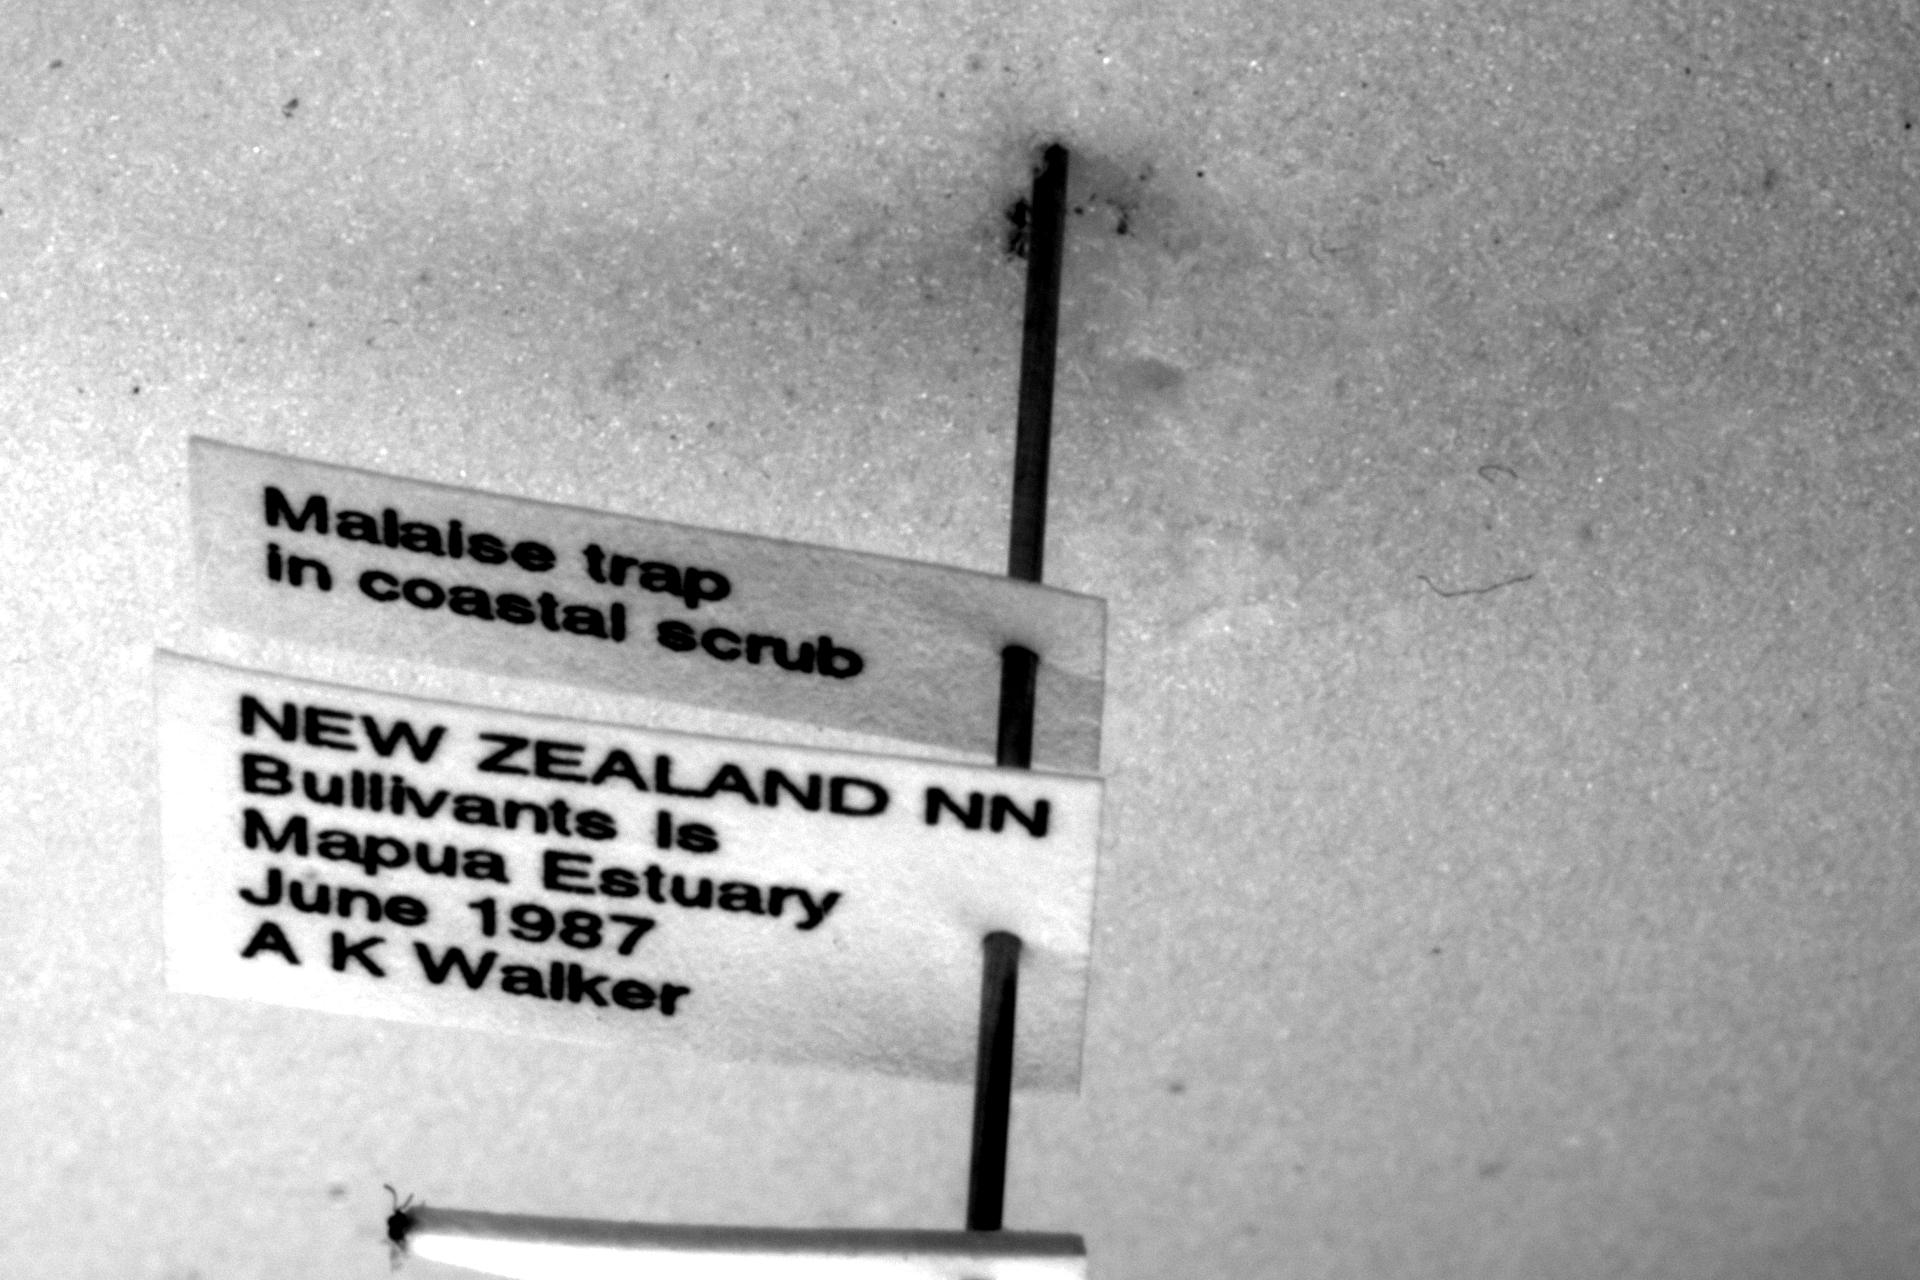typed_label: (157, 653, 1103, 1091), (191, 439, 1106, 773)
